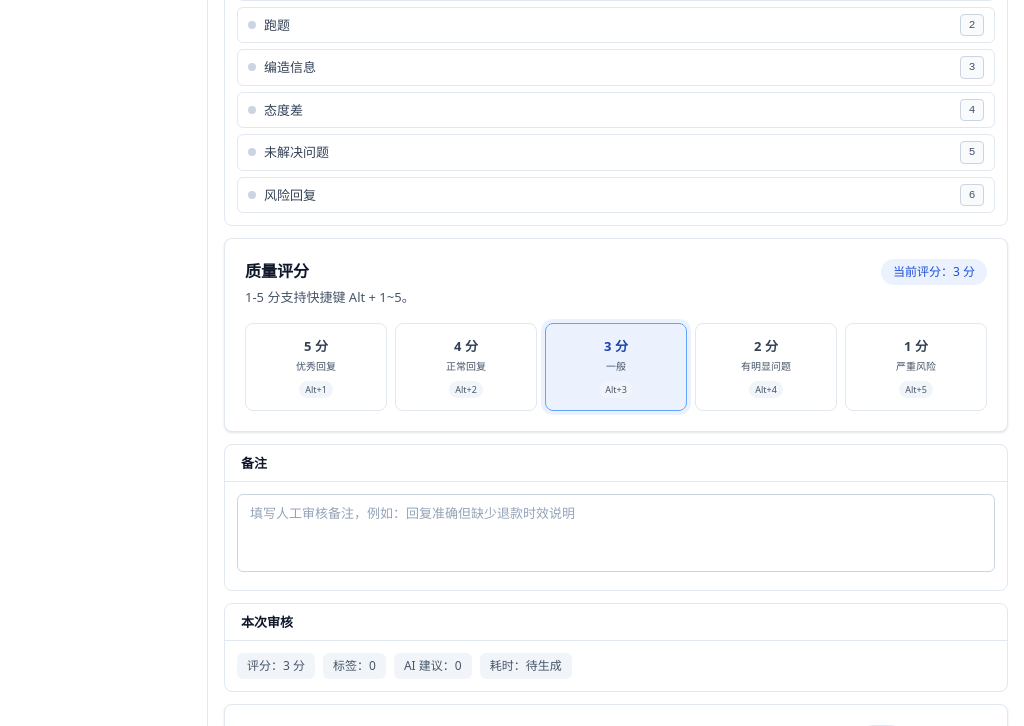
Test: B. 人工标注与持久化 › 点击评分「1 分」→ 当前评分显示 1 分，annotation.score 持久化为 1
(page scrolled)
Expected: the text "当前评分：3 分" is shown, [881,259,987,285]
Click the button "1 分 严重风险 Alt+5": (916, 367) [845,323,987,411]
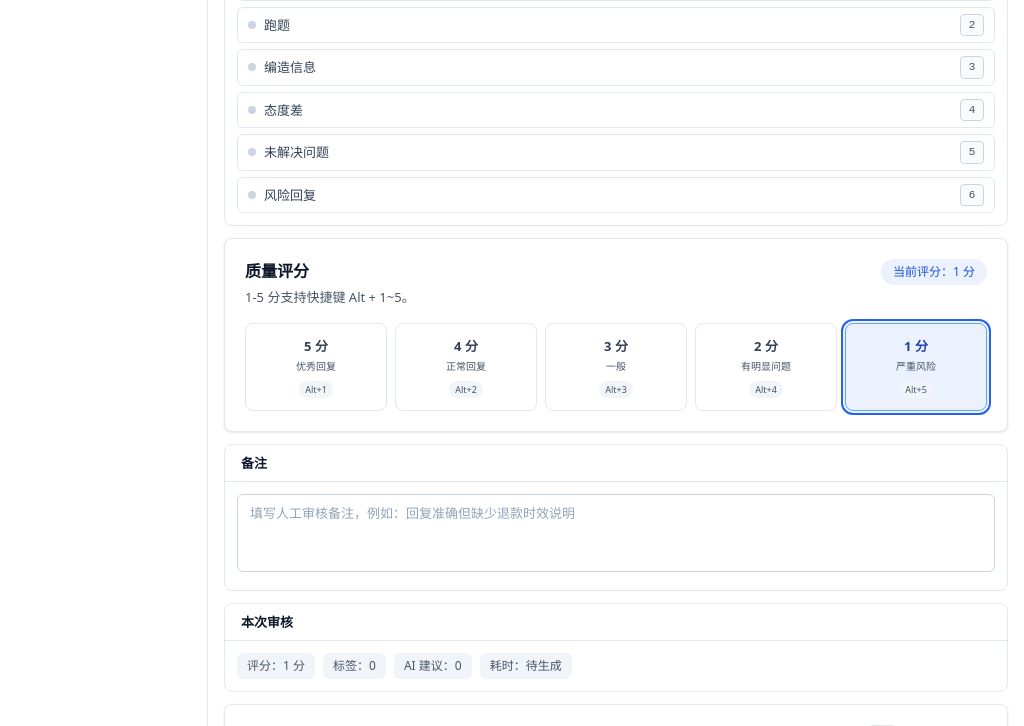
Expected: the text "当前评分：1 分" is shown, [881,259,987,285]
